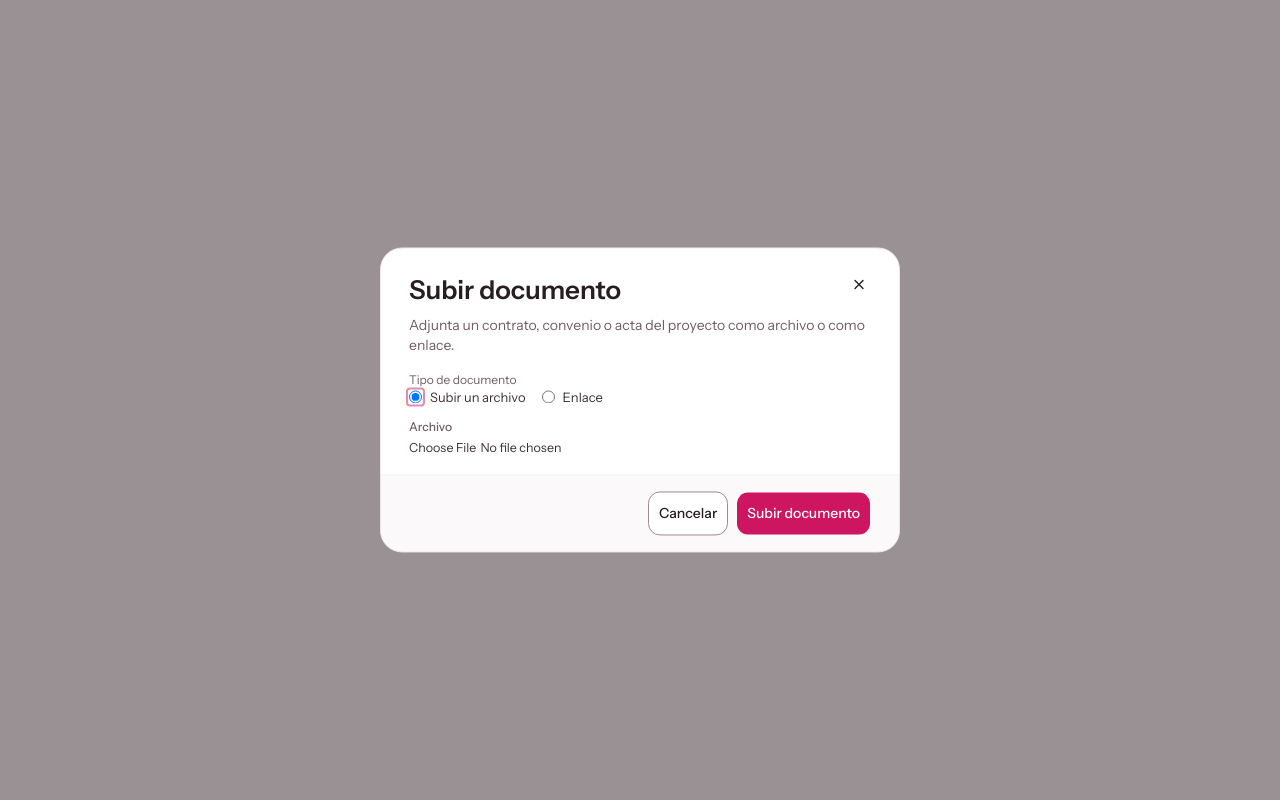
Test: SubirDocumentoDialog › locks Cancelar while the upload is in flight, like the other project dialogs
Step 1. Click the radio button labelled "Enlace" → point(548, 397), box top-left (542, 391), bottom-right (555, 404)
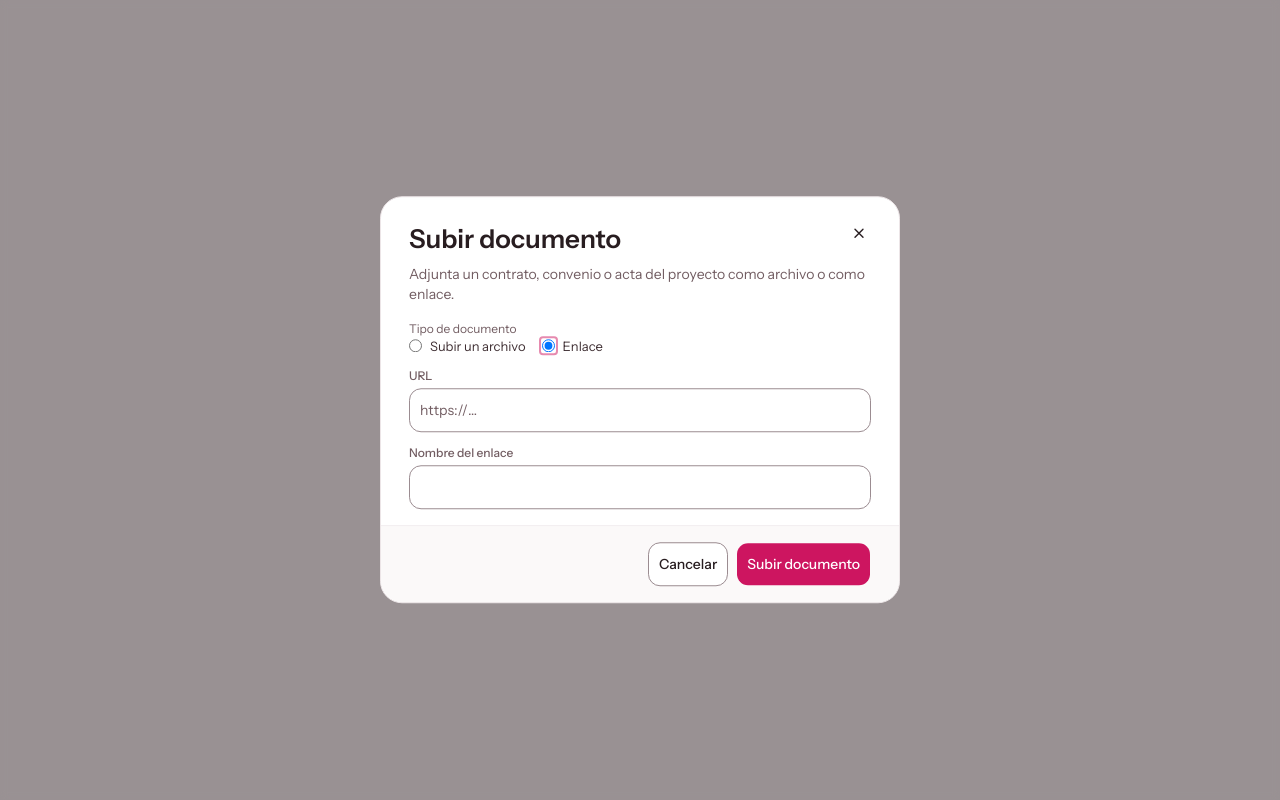
Step 2. Type "https://drive.example/acta" into the field labelled "URL" → point(640, 411), box top-left (409, 389), bottom-right (871, 433)
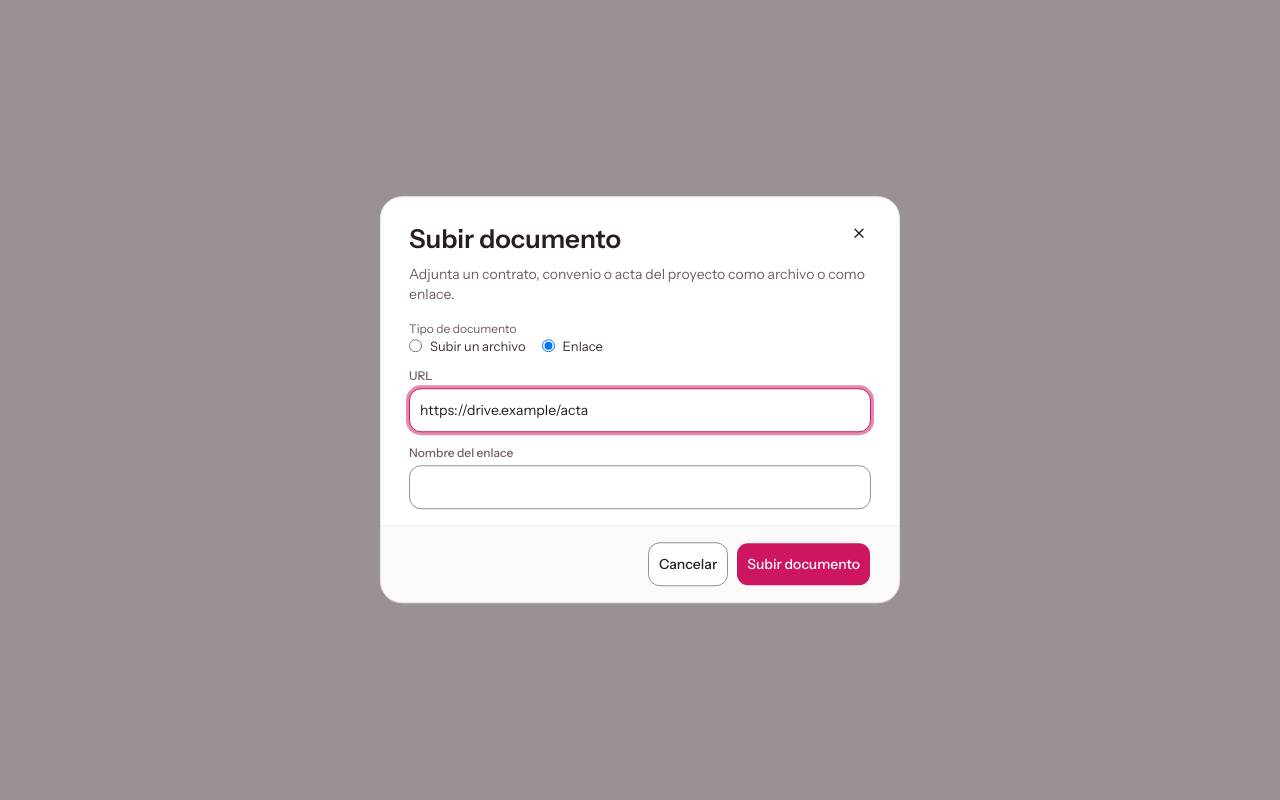
Step 3. Type "Acta" into the field labelled "Nombre del enlace" → point(640, 488), box top-left (409, 466), bottom-right (871, 510)
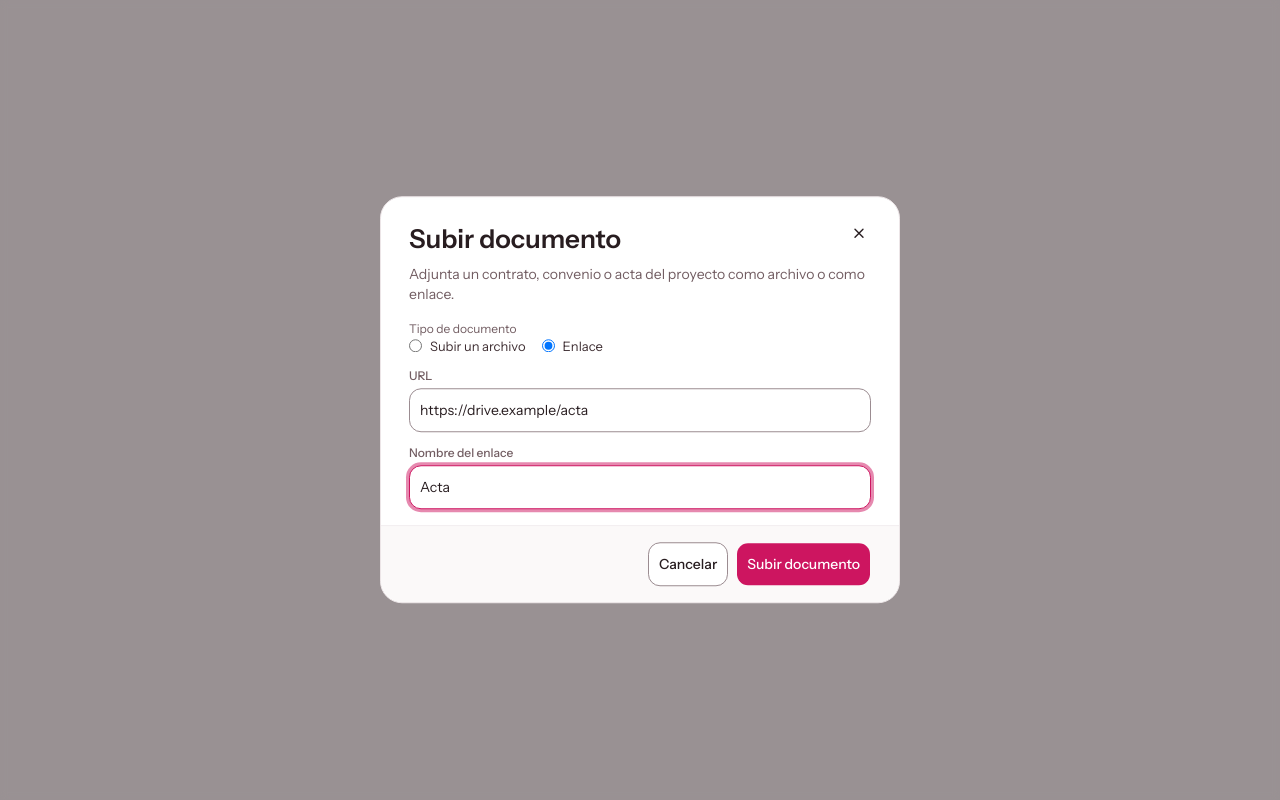
Step 4. Click the button "Subir documento" → point(804, 565), box top-left (736, 543), bottom-right (871, 587)
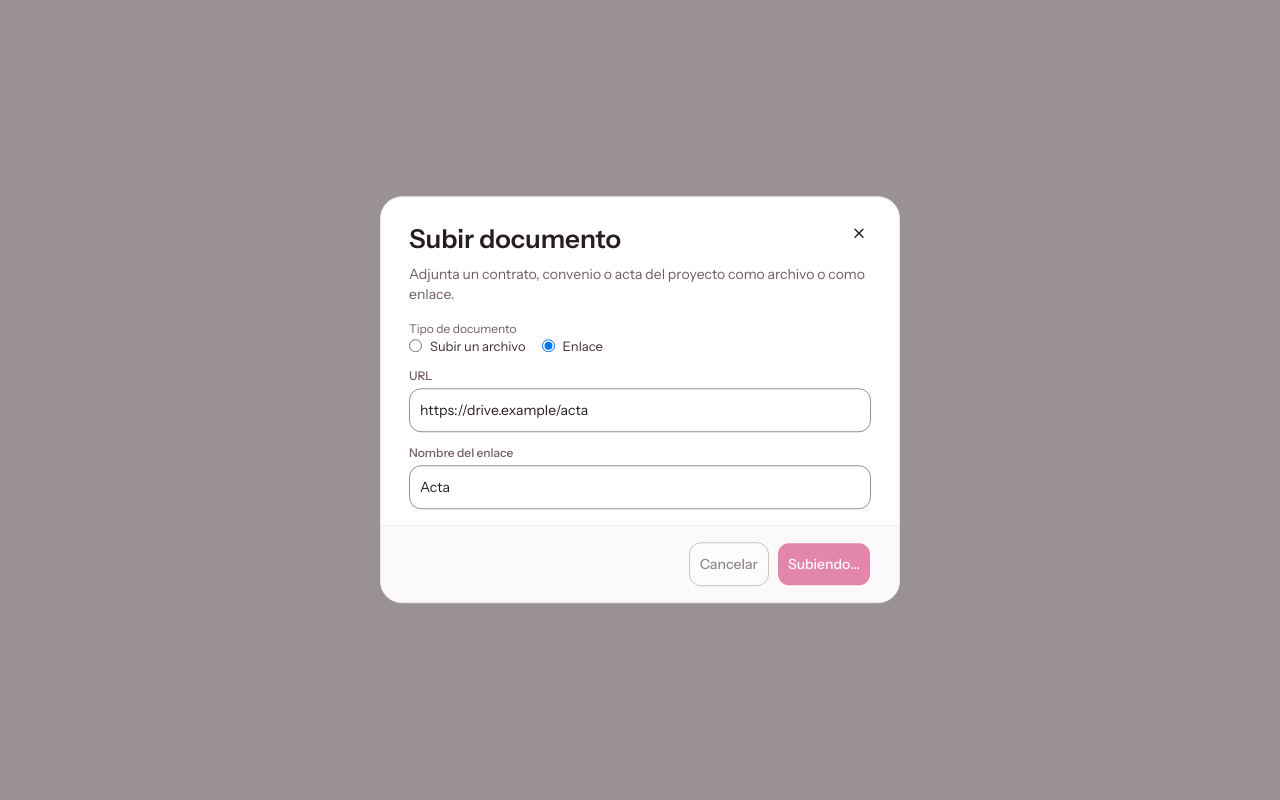
Expected: the button "Subiendo…" is disabled, top-left (777, 543), bottom-right (871, 587)
Expected: the button "Cancelar" is disabled, top-left (689, 543), bottom-right (769, 587)
